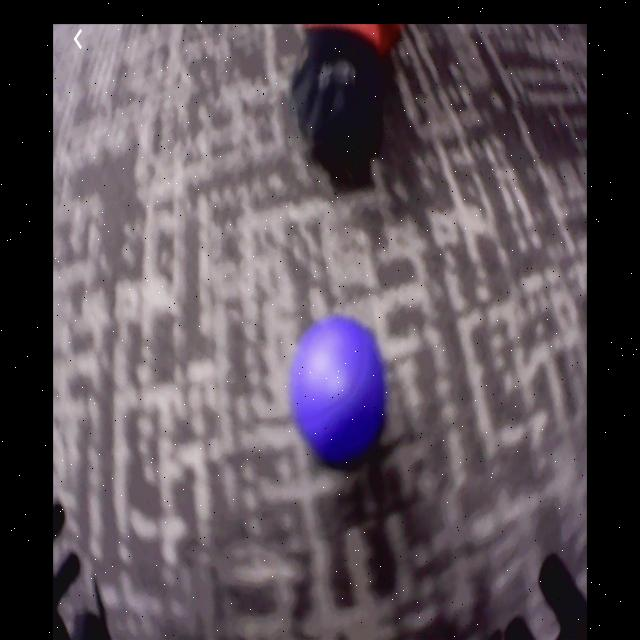ball: (291, 320, 386, 461)
